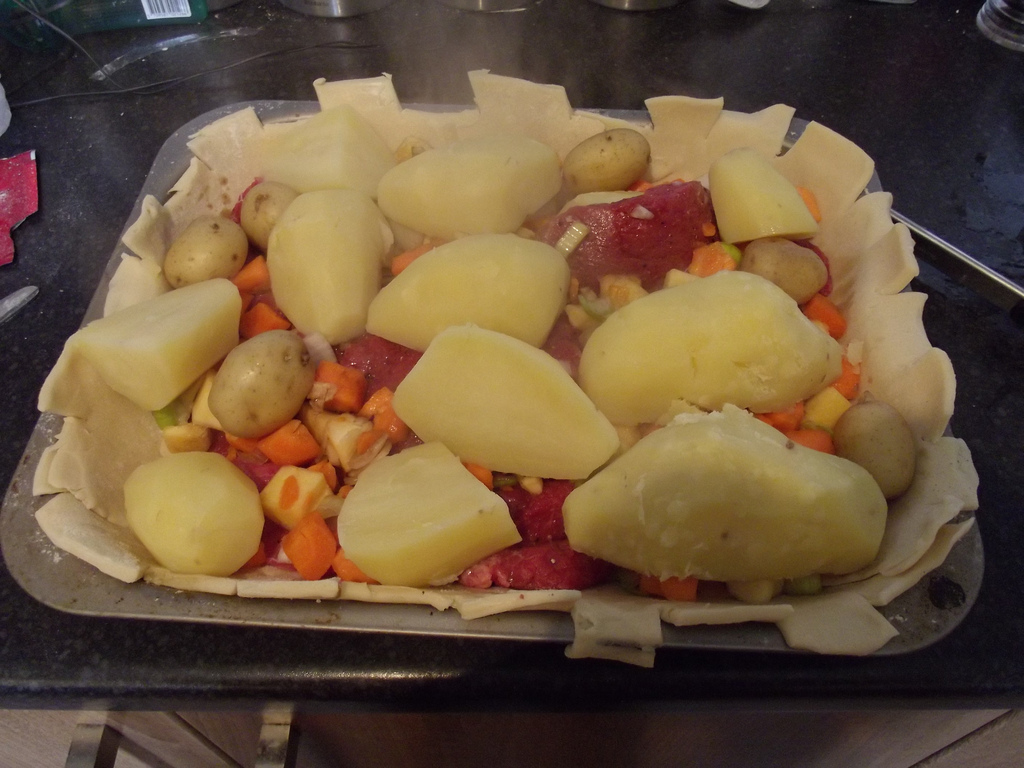boiled potatoes: (116, 148, 934, 607)
